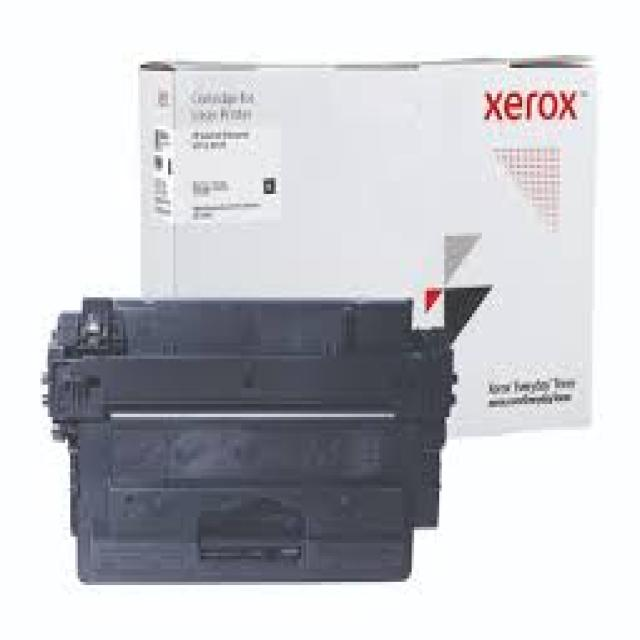printer: (25, 279, 503, 612)
